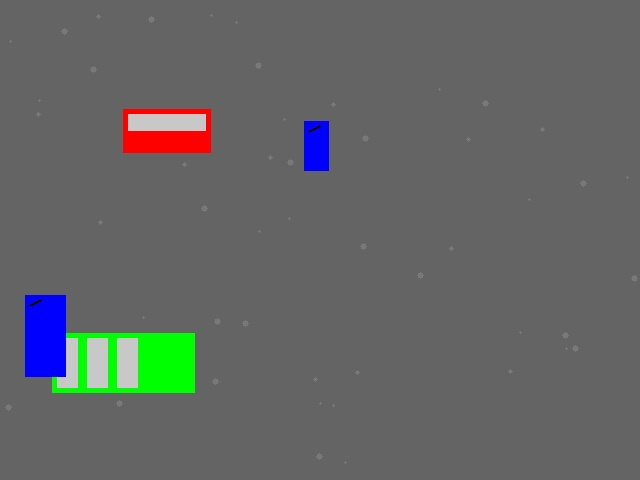bus: (52, 333, 194, 392)
car: (123, 109, 210, 152)
motorcycle: (25, 295, 65, 376), (304, 121, 328, 170)
